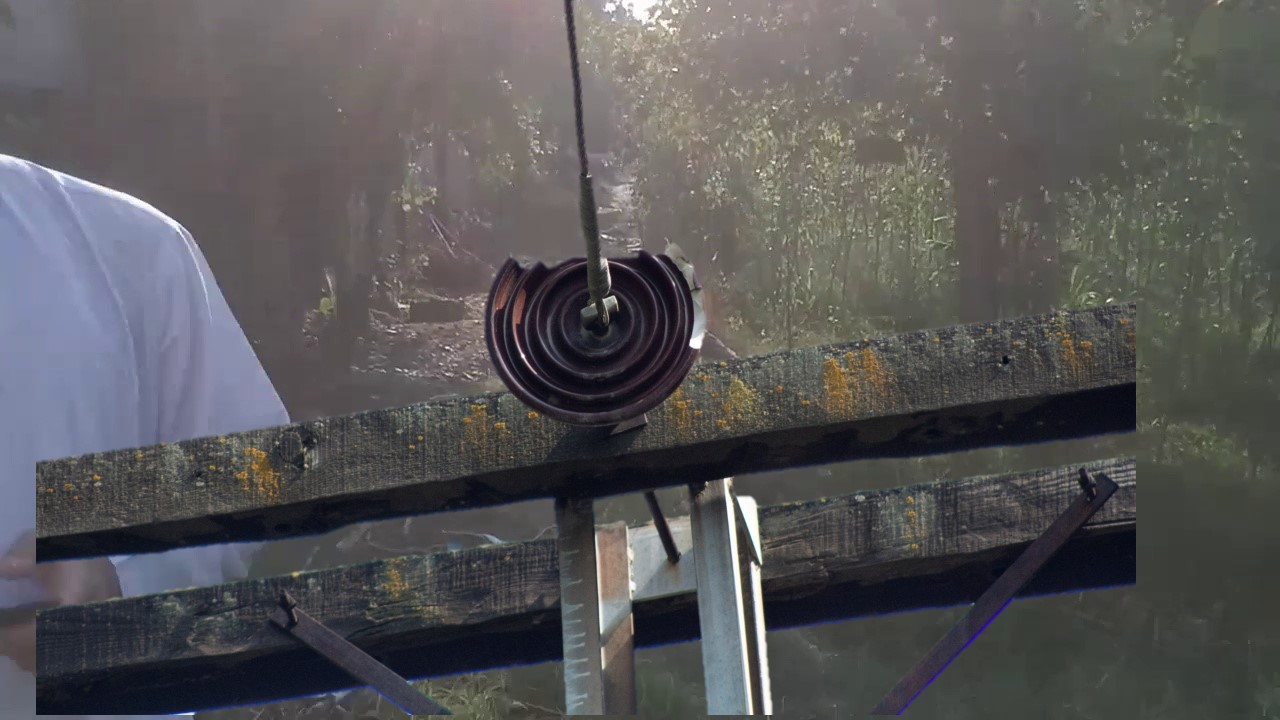defect_disc: (481, 239, 712, 431)
